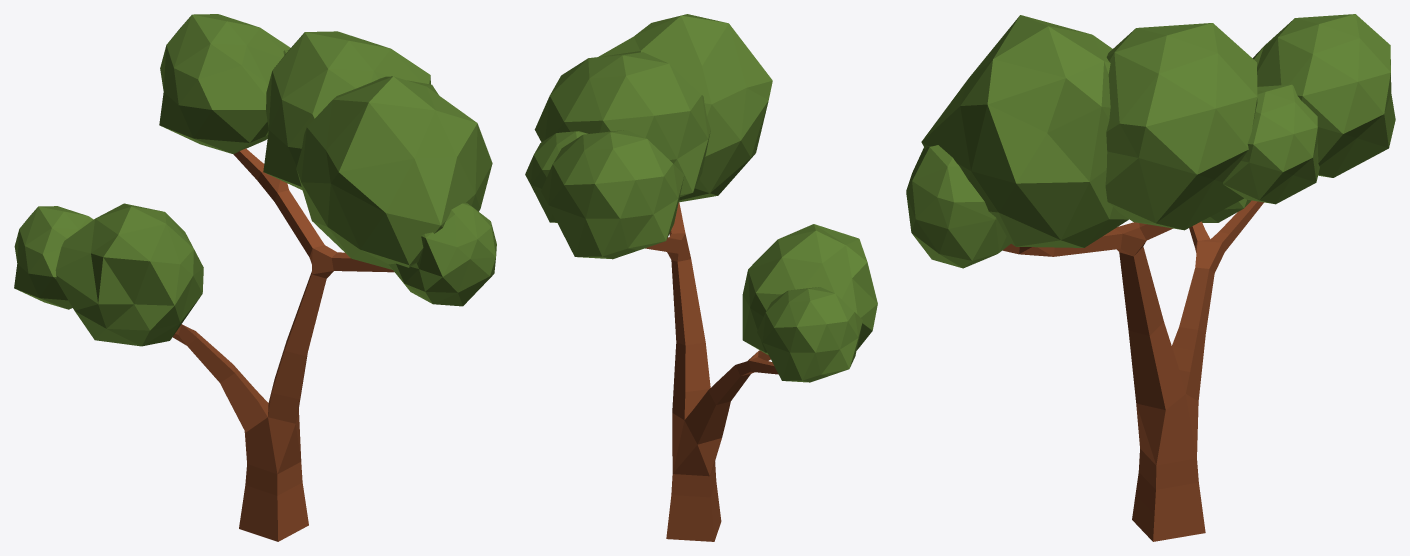
Rendered from tree01.fbx.
The picture shows the model from 3 angles, left to right: view 1: azimuth 30°, elevation 25°; view 2: azimuth 150°, elevation 25°; view 3: azimuth 270°, elevation 25°; orthographic projection. The views are drawn at different scales.
Visible parts, largest first — view 1: Object_14, Object_12; view 2: Object_14, Object_12; view 3: Object_14, Object_12.
Part boxes in pixels (x1,y1,x2,y2): Object_14: (14, 14, 496, 346); Object_12: (173, 148, 394, 541); Object_14: (525, 14, 877, 382); Object_12: (645, 202, 778, 541); Object_14: (906, 14, 1395, 268); Object_12: (1002, 200, 1263, 541).
Bounding box in the file's own units: 617 × 763 × 631.
